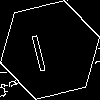I: (25, 25, 50, 73)
